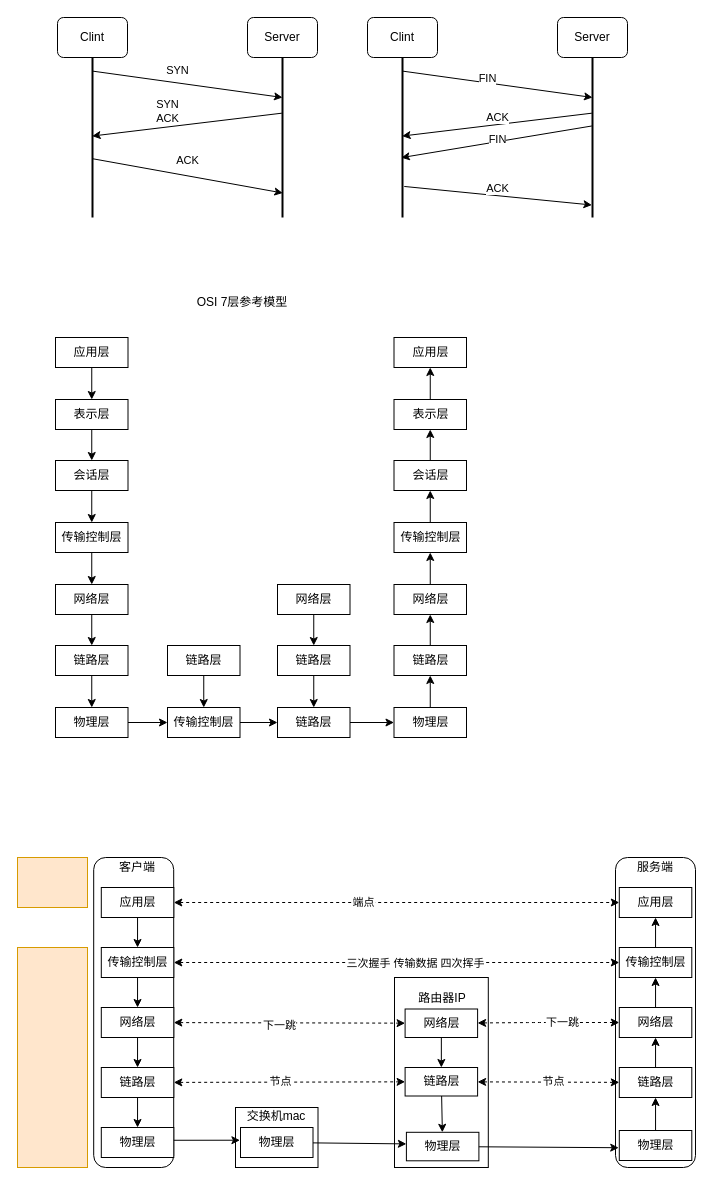
Some shapes in this 713 by 1185 pixel diagram are drawn without their labels. The shapes that lost their labels are listed below. From the top down, each one's centre as x and y in pixels, then its label:
point 52,882: 程序
point 52,1057: 内核 公共
